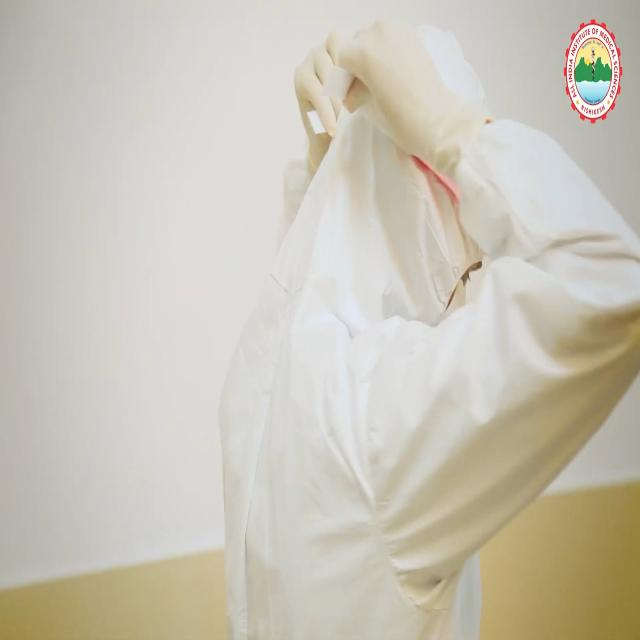Gloves: (326, 18, 487, 182)
